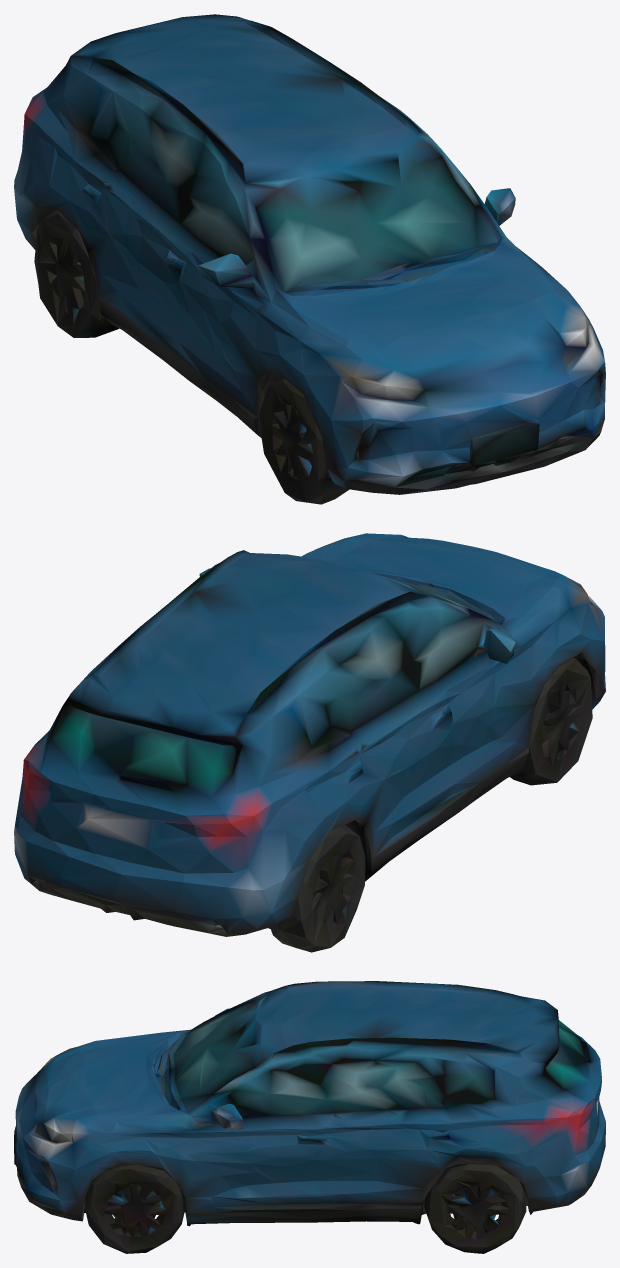
The model's file is car-suv.glb.
The picture shows the model from 3 angles, top to bottom: view 1: azimuth 30°, elevation 25°; view 2: azimuth 150°, elevation 25°; view 3: azimuth 270°, elevation 25°; orthographic projection. The views are drawn at different scales.
Visible parts, largest first — view 1: geometry_0; view 2: geometry_0; view 3: geometry_0.
Part boxes in pixels (x1,y1,x2,y2): geometry_0: (14,14,605,504); geometry_0: (14,533,605,952); geometry_0: (14,981,605,1253).
Size of the model in its own units: 0.9099 by 0.7373 by 1.99.
